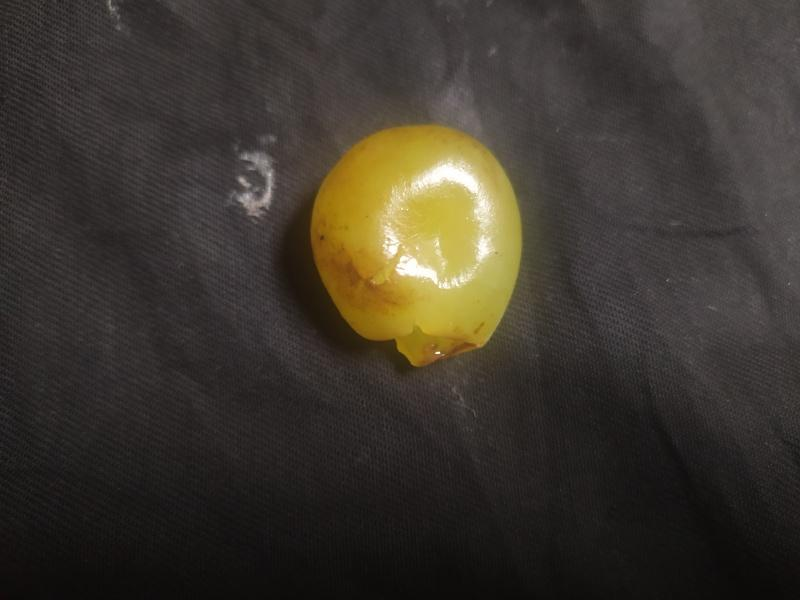Grape Overripe: (305, 119, 525, 370)
